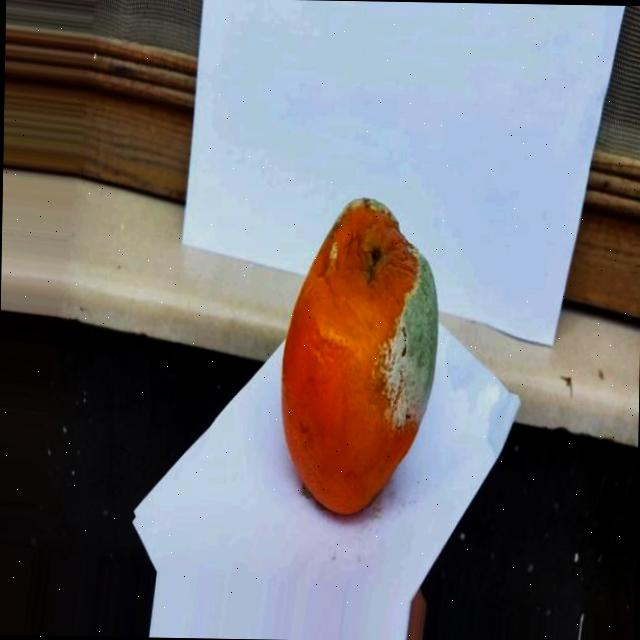rotten orange: (277, 194, 443, 516)
